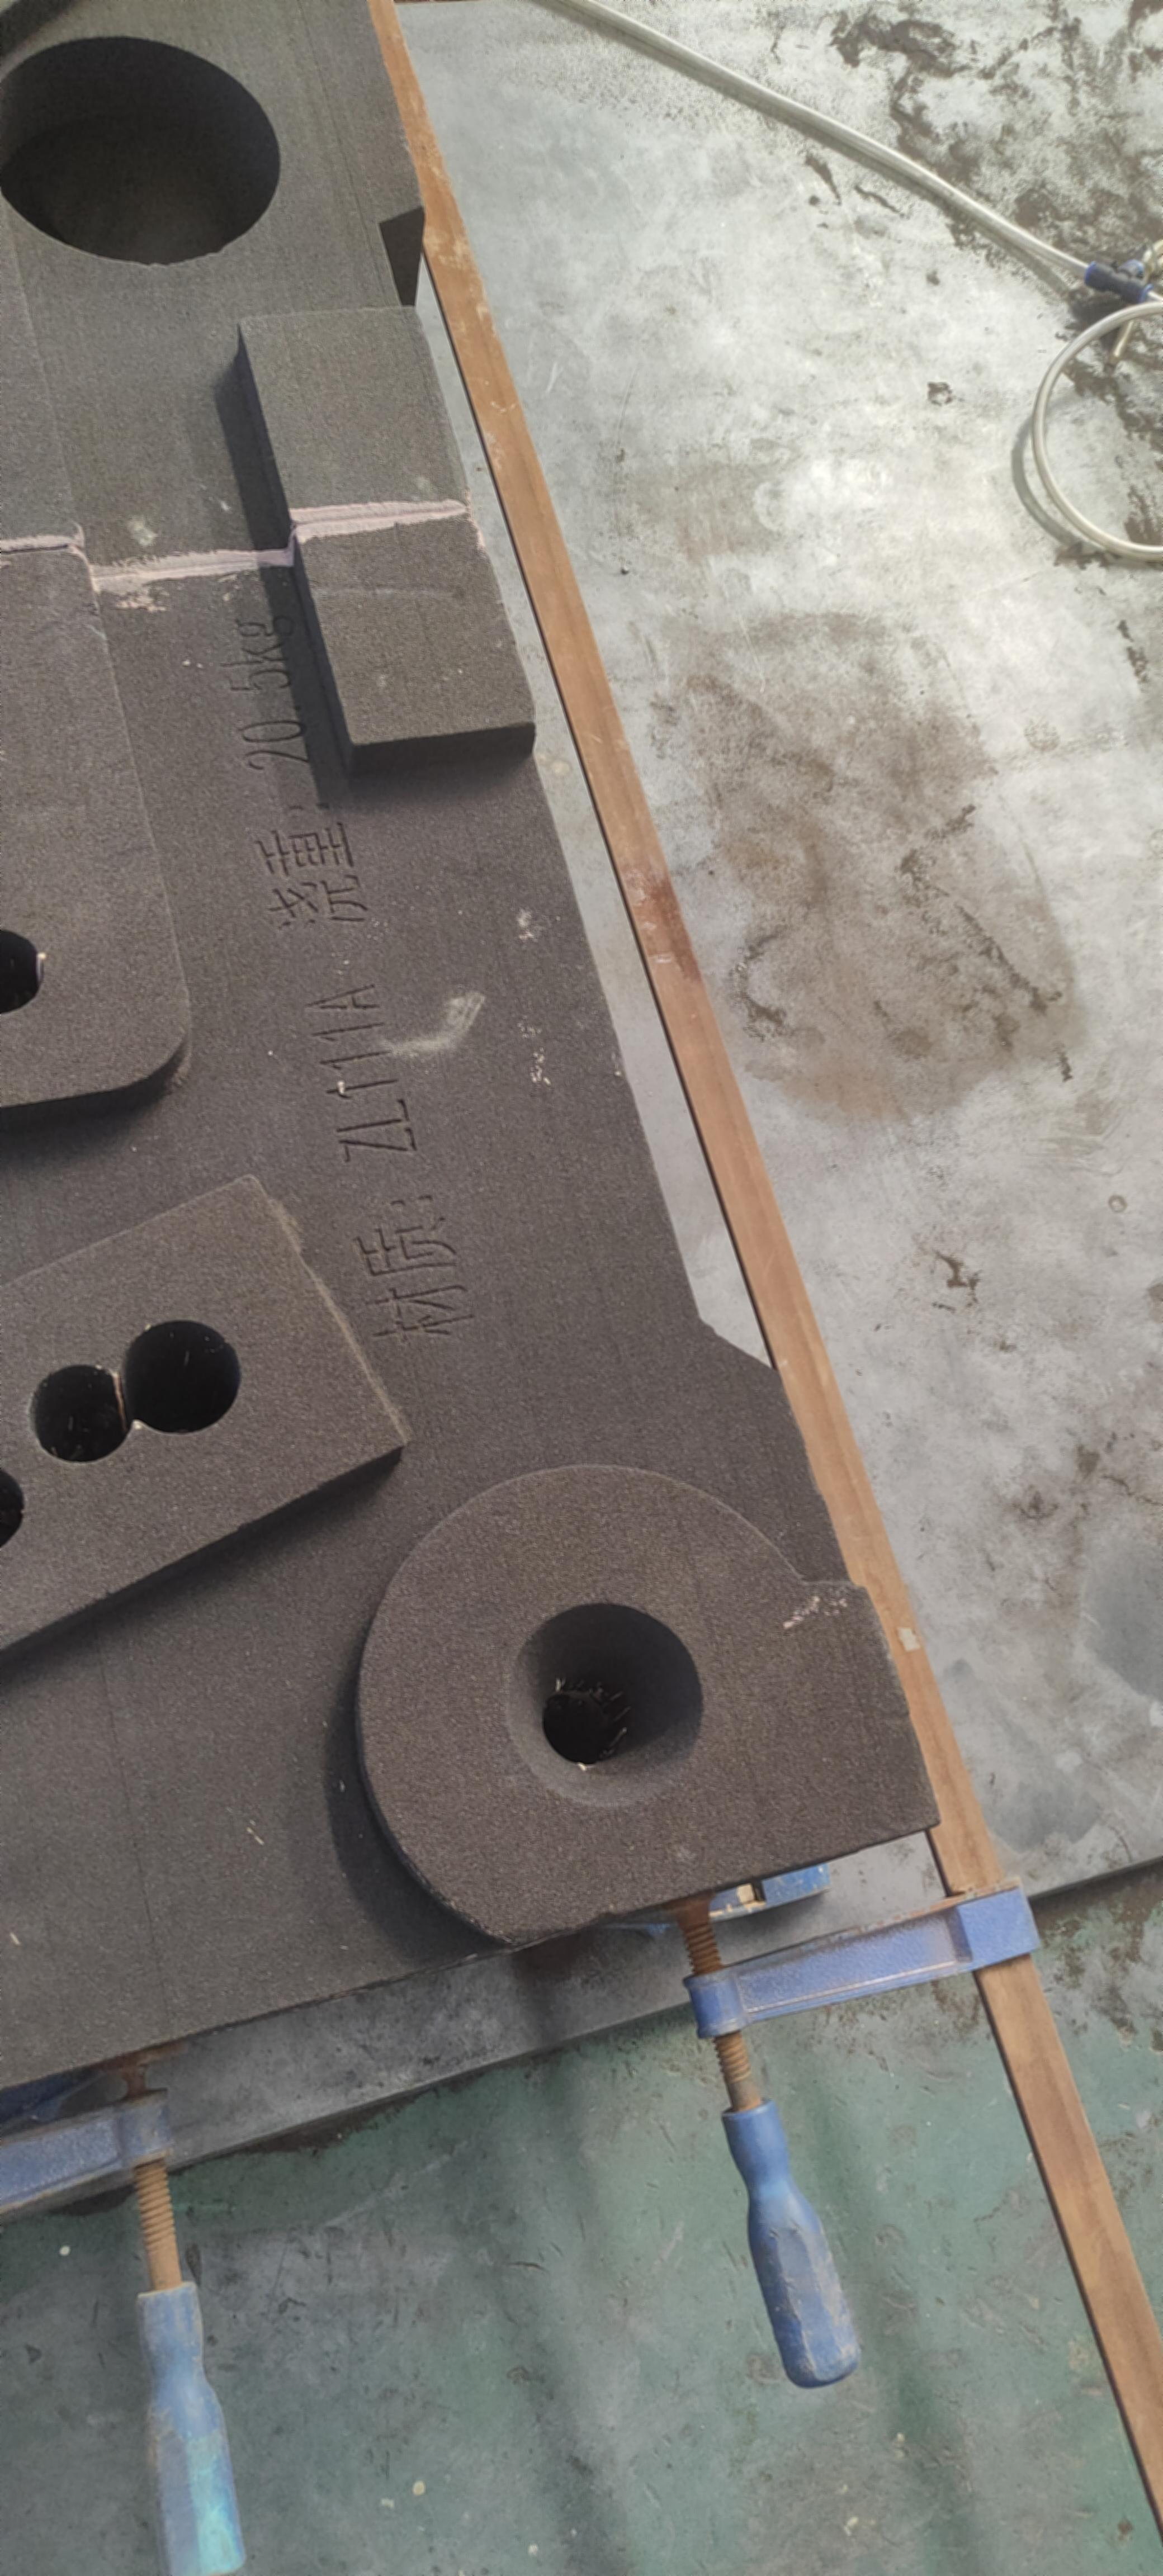pouring hole: (504, 1602, 703, 1807)
